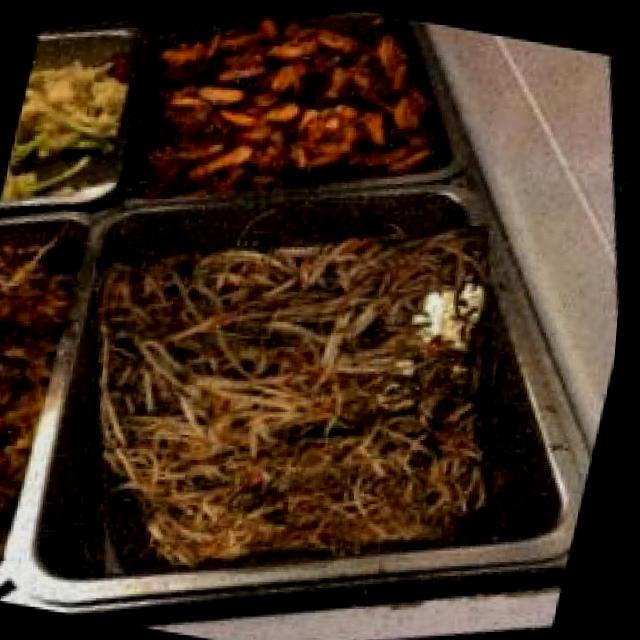mung_bean_sprouts: (31, 156, 579, 640)
